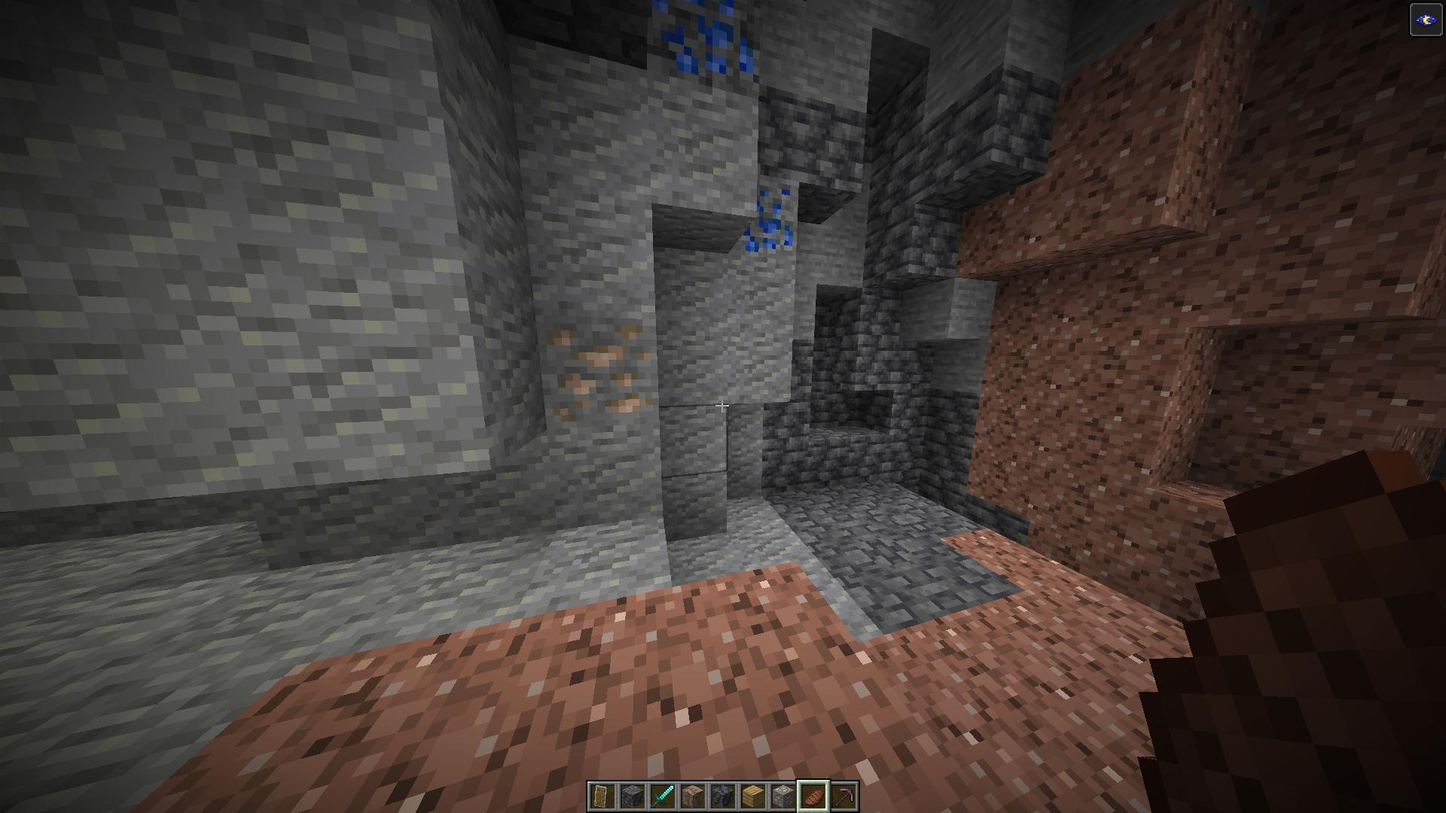iron ore: (528, 322, 651, 425)
